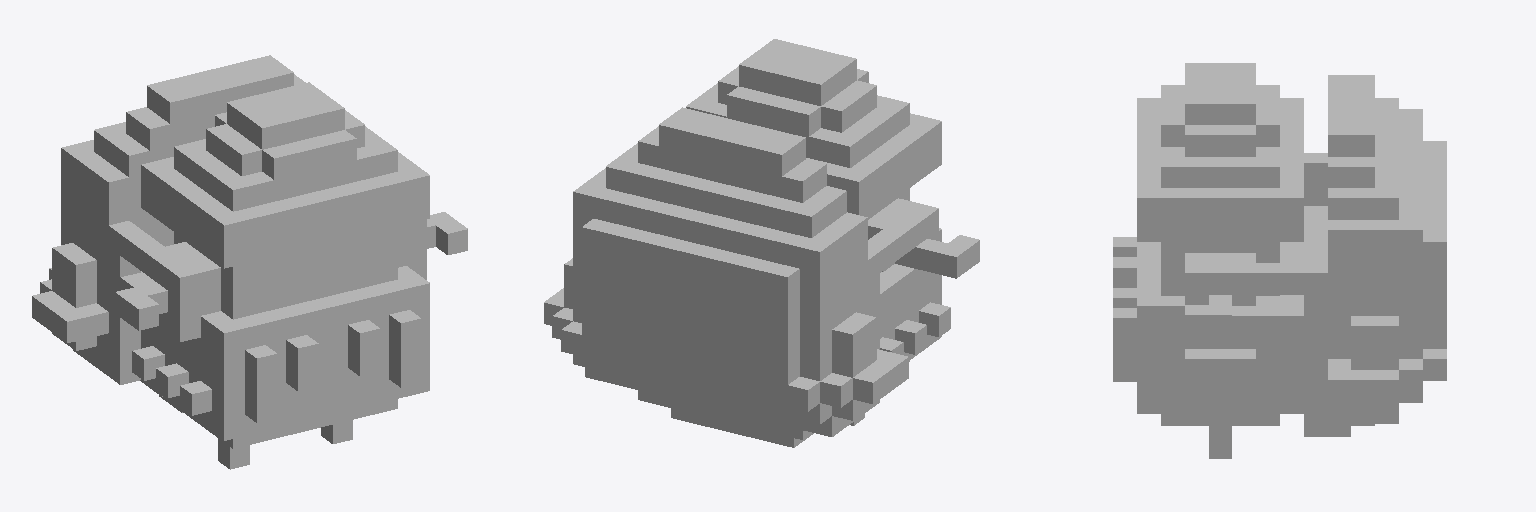
File: Soldier.obj
3 renders of one model, left to right at view 1: azimuth 30°, elevation 25°; view 2: azimuth 150°, elevation 25°; view 3: azimuth 270°, elevation 25°, orthographic.
Visible parts, largest first — view 1: Solider:Mesh; view 2: Solider:Mesh; view 3: Solider:Mesh.
Boxes of the visible parts, box(x1,y1,x2,y2) form: Solider:Mesh: box(32, 55, 467, 469); Solider:Mesh: box(544, 39, 979, 447); Solider:Mesh: box(1113, 63, 1446, 458).
Bounding box in the file's own units: 1.6 × 1.6 × 1.4.